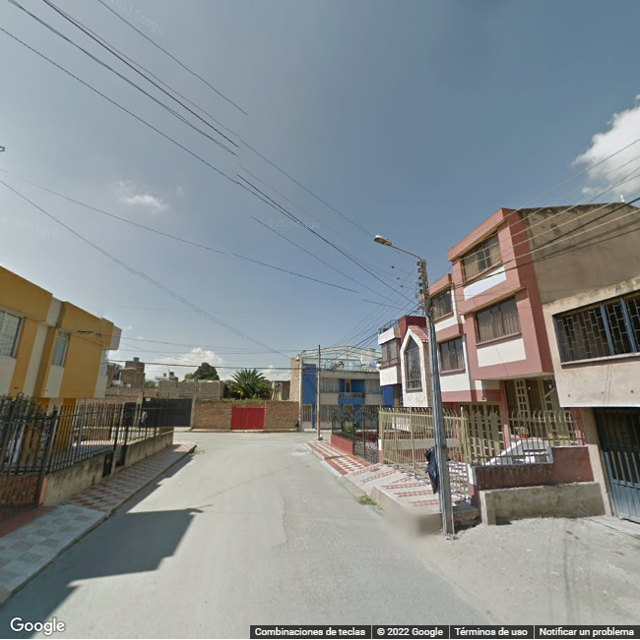D00: (277, 478, 288, 546)
D20: (275, 549, 405, 619)
